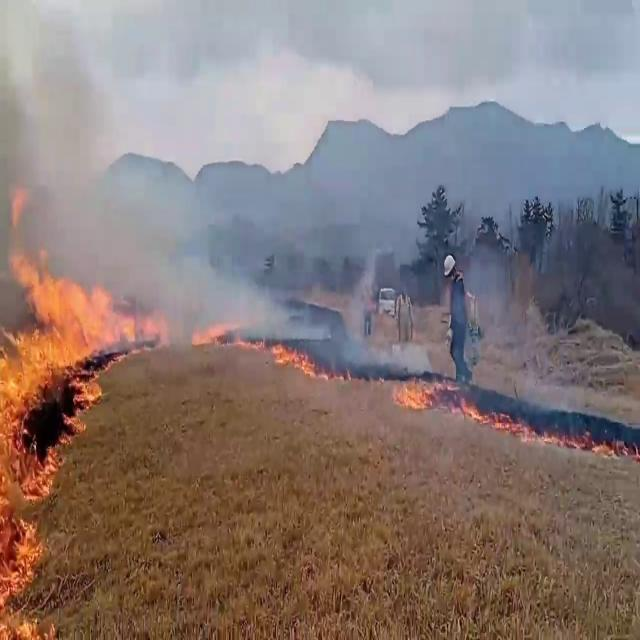Fire: (0, 252, 144, 420), (0, 405, 64, 640), (184, 311, 244, 351), (266, 334, 318, 377), (390, 366, 436, 413)
Smoke: (0, 52, 178, 357)
